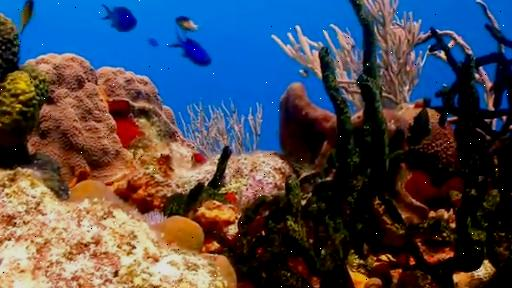Fish: (168, 30, 211, 66), (103, 5, 136, 31), (19, 0, 34, 34), (177, 16, 198, 31), (147, 38, 159, 47), (299, 69, 309, 78)
